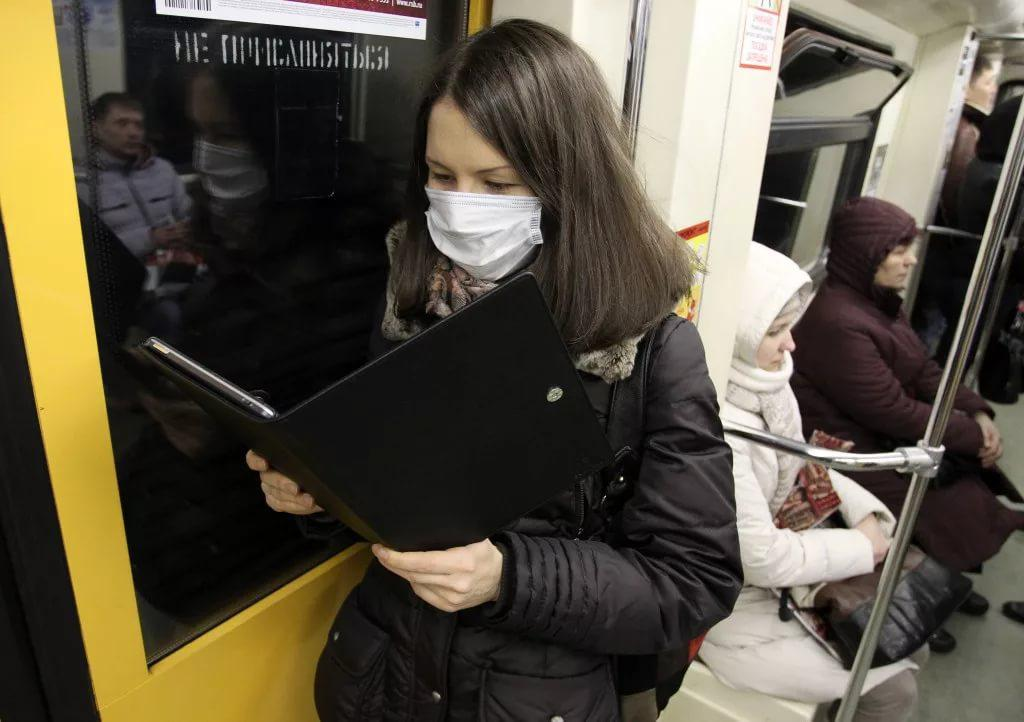mask: (425, 96, 545, 285)
none: (750, 298, 803, 378), (102, 104, 155, 153), (879, 235, 923, 292)
